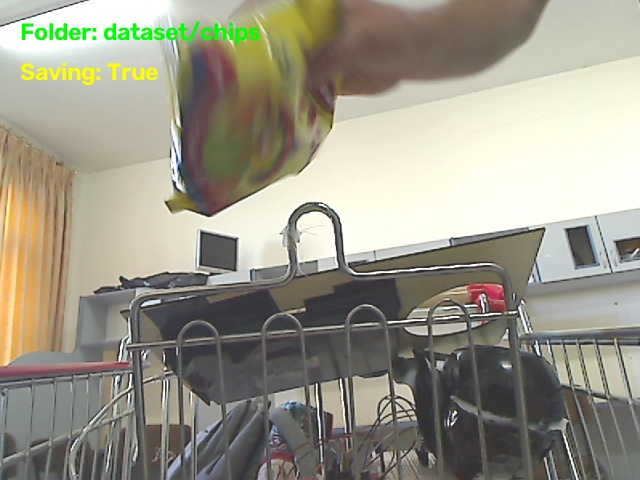chips: (165, 0, 339, 215)
